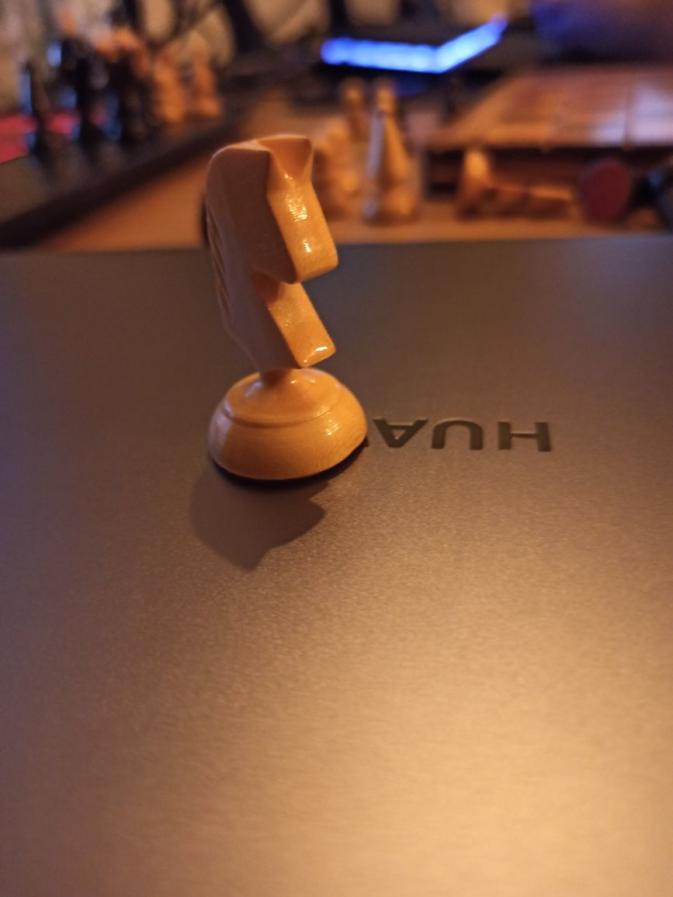wknight: (202, 137, 370, 486)
